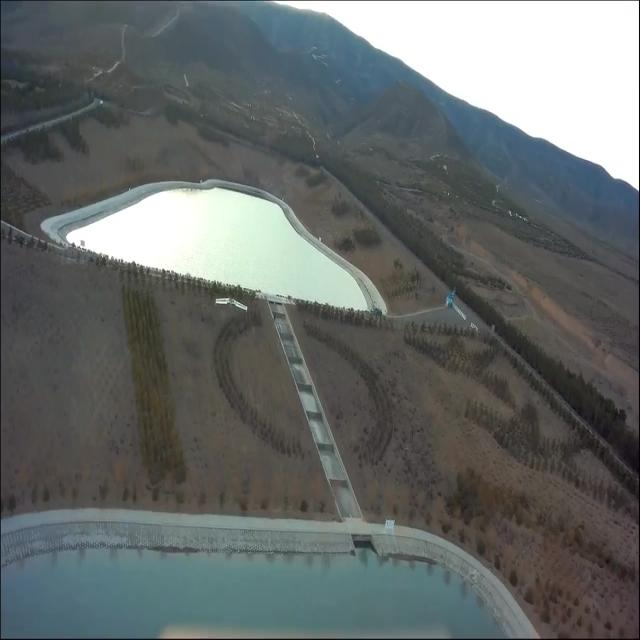iha: (215, 298, 247, 312)
